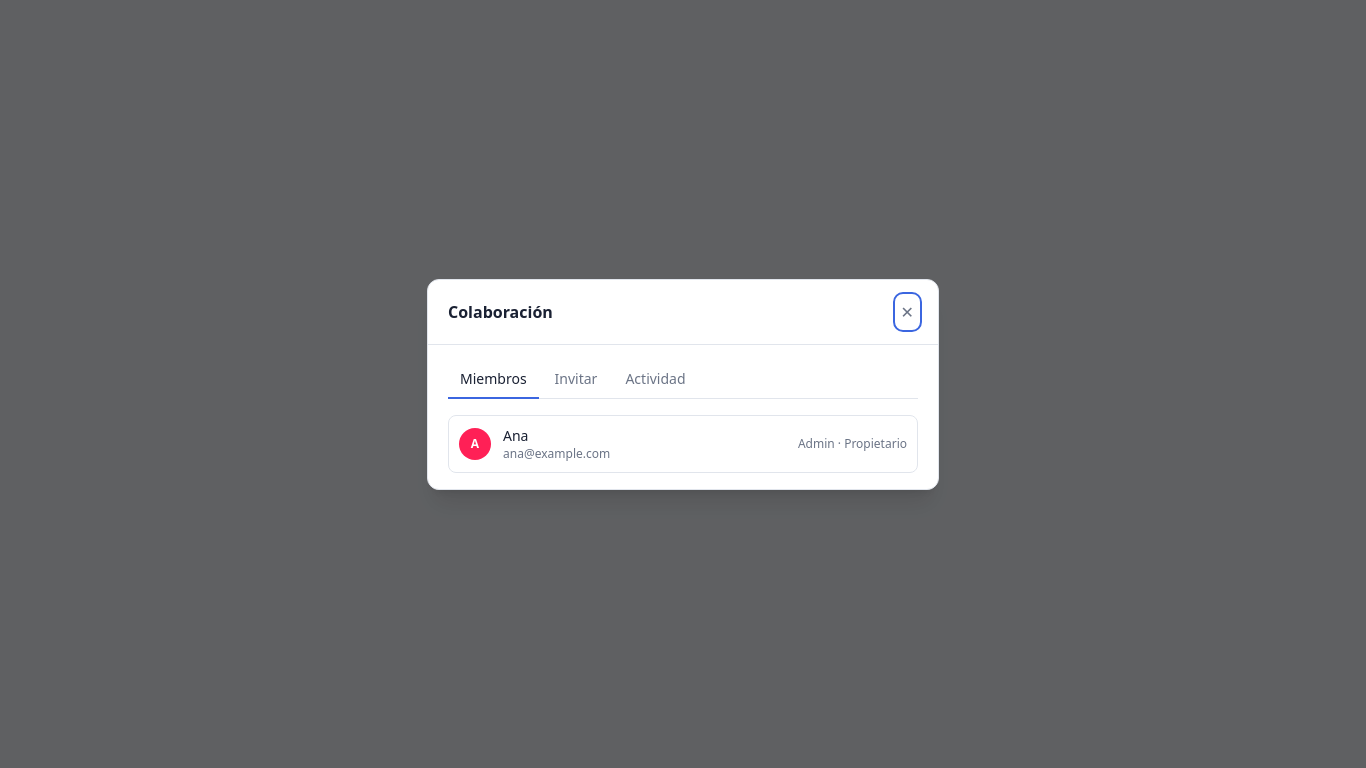
Test: CollaborationModal › cambia de pestaña y marca la activa con aria-selected
This screenshot has width=1366, height=768.
Expected: the text "Ana" is shown, [503,426,528,444]
Click the tab "Actividad": (655, 380) [613,360,698,398]
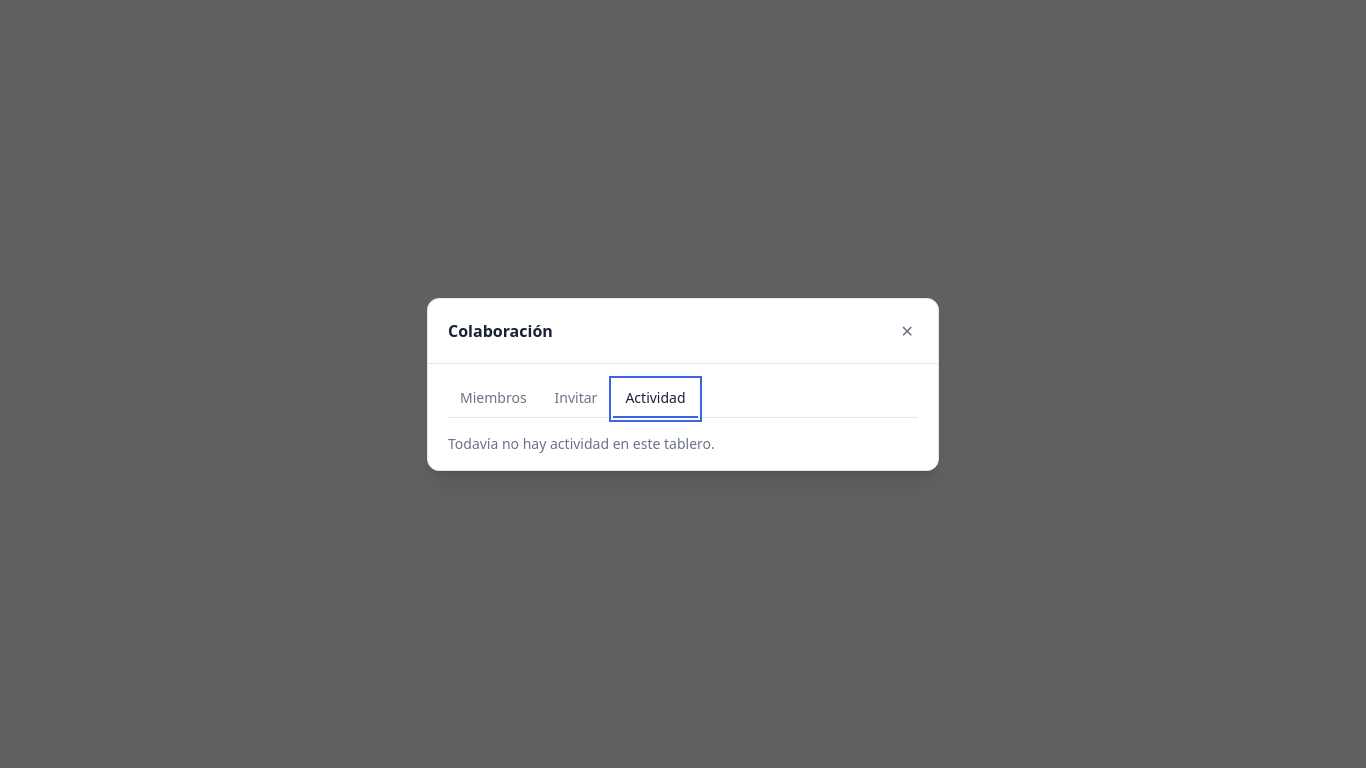
Expected: the text "Todavía no hay actividad en este tablero." is shown, [448,434,715,452]
Click the tab "Invitar": (576, 398) [543,380,609,418]
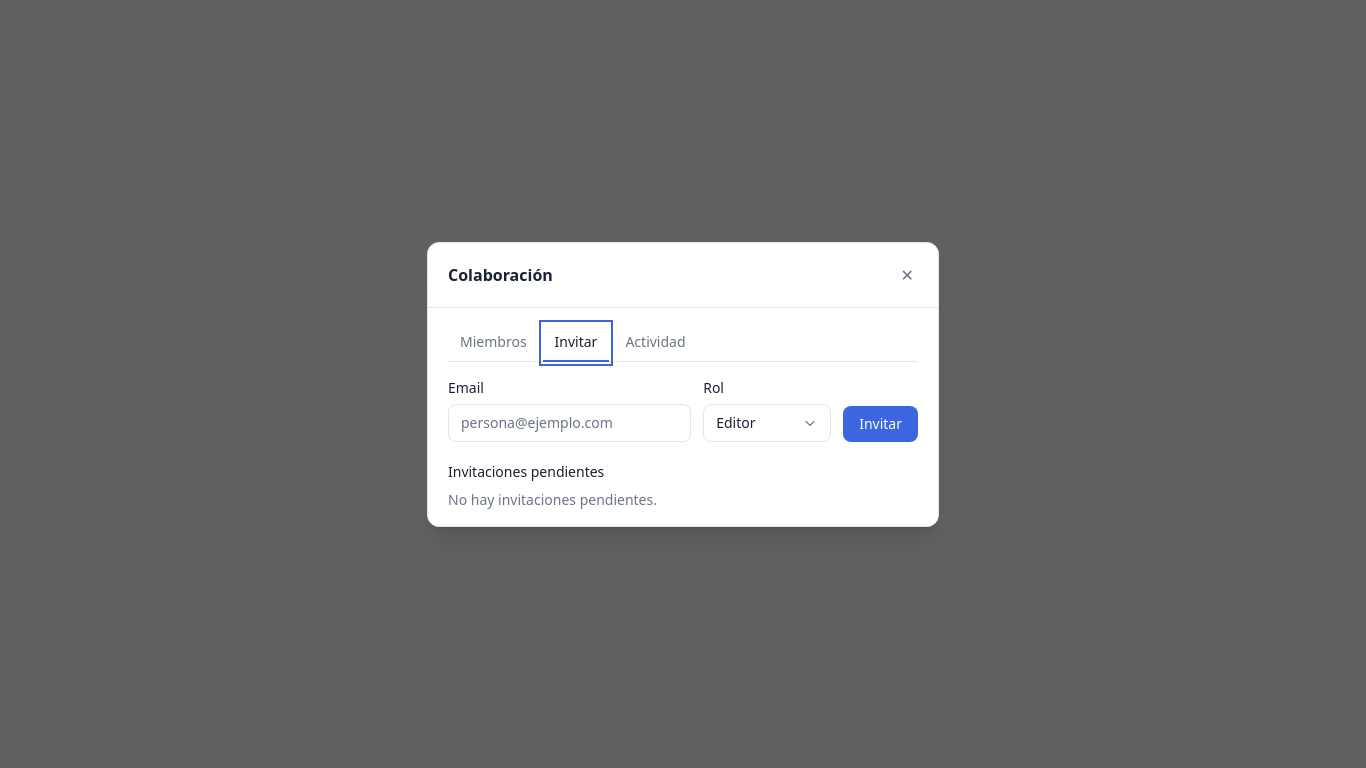
Expected: the field labelled "Email" is shown, [448,404,691,442]
